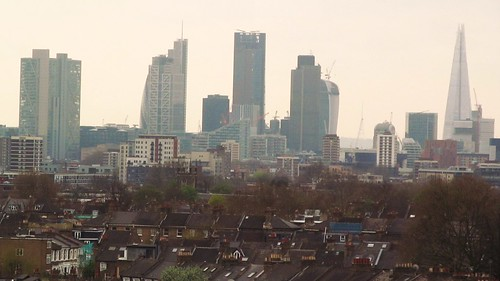building: (18, 54, 83, 160), (137, 41, 193, 138), (290, 51, 342, 152), (447, 25, 480, 151), (232, 28, 268, 127), (118, 132, 189, 176), (369, 124, 399, 167), (402, 110, 438, 144), (200, 93, 230, 131)
sky: (10, 1, 500, 111)
tree: (407, 172, 500, 281)
